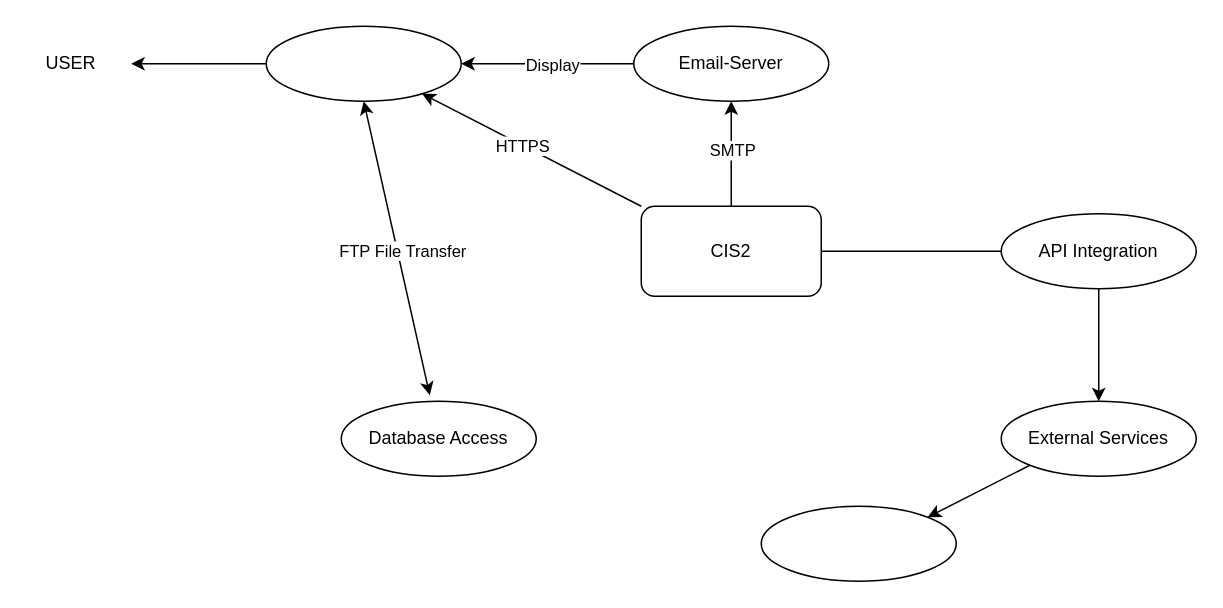
The diagram is 1223 pixels wide and 608 high, and some of its shapes have lost their labels. The shapes that lost their labels are listed below. From the top down, each one's box as (x1, y1, x2, y2) in pixels, then its label:
(265, 25, 461, 101): Web Browser
(760, 505, 956, 581): Klarna
